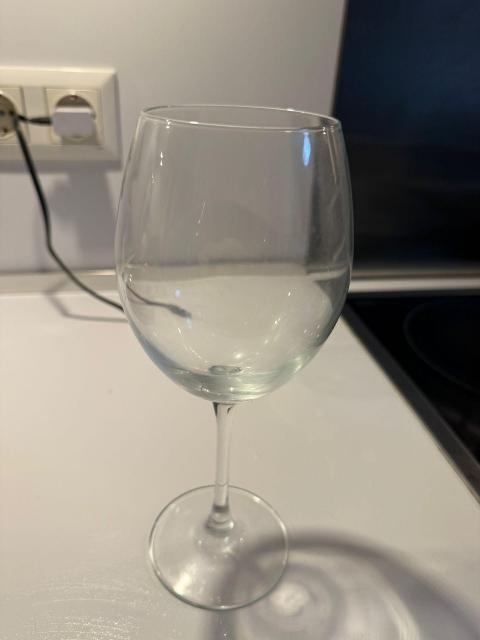Cam: (117, 97, 340, 611)
